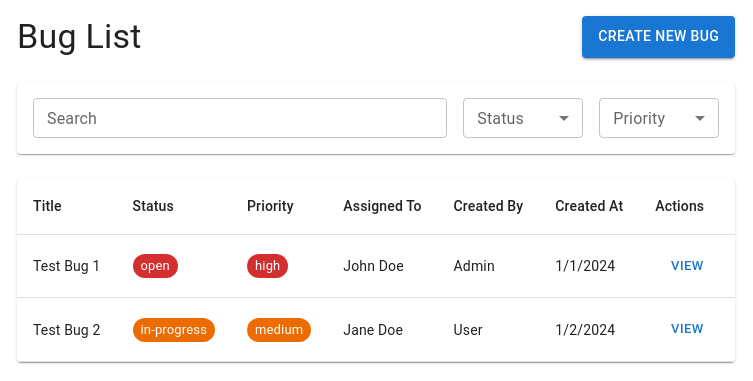
Test: BugList Component › filters bugs by search input
Expected: the text "Test Bug 1" is shown, [17, 234, 116, 298]
Expected: the text "Test Bug 2" is shown, [17, 298, 116, 362]
Type "Bug 1" into the field labelled "Search" at (240, 118), box [33, 98, 447, 138]
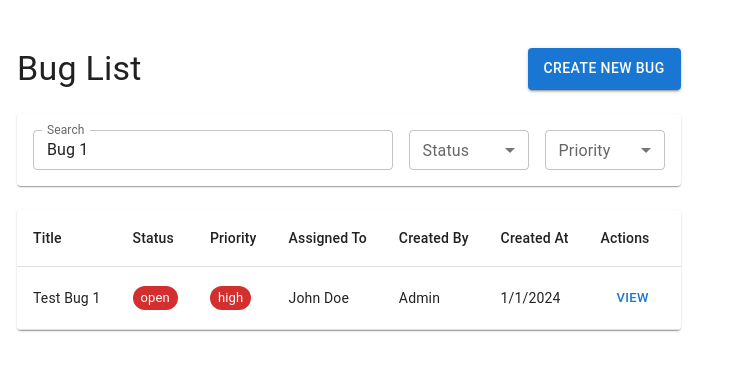
Expected: the text "Test Bug 1" is shown, [17, 266, 116, 330]
Result: the text "Test Bug 2" is gone
